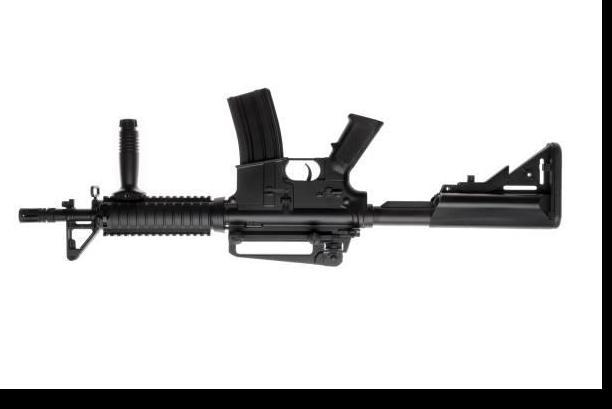larga: (19, 86, 564, 267)
